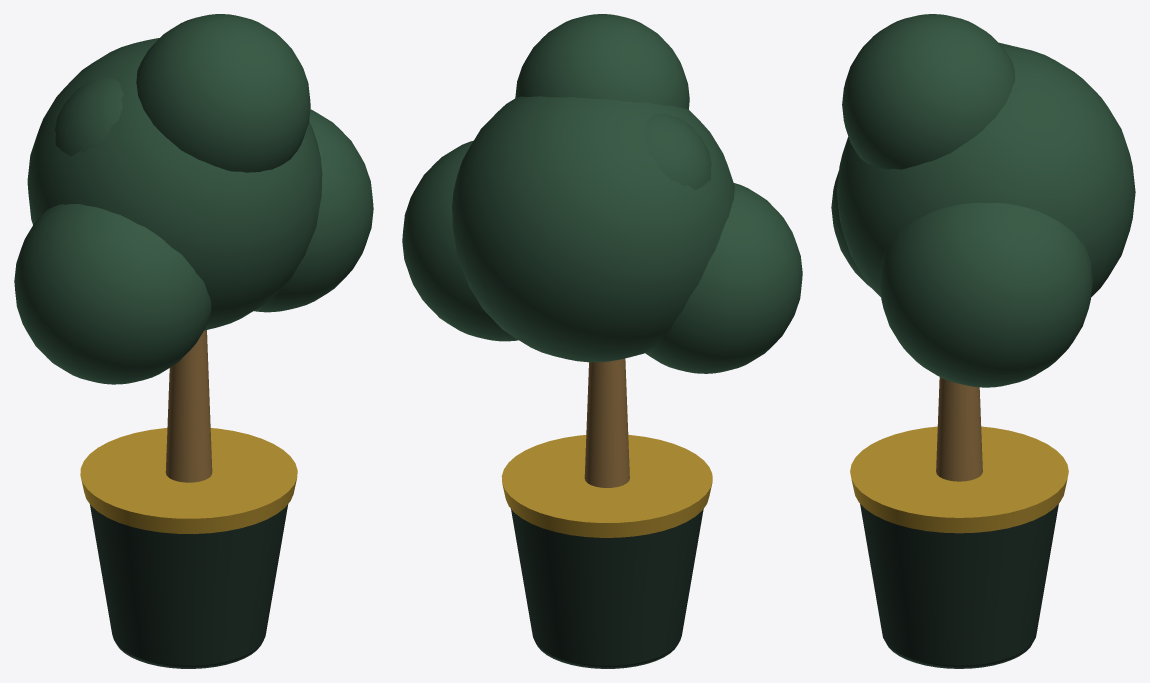
The model's file is potted-plant.glb.
The picture shows the model from 3 angles, left to right: view 1: azimuth 30°, elevation 25°; view 2: azimuth 150°, elevation 25°; view 3: azimuth 270°, elevation 25°; orthographic projection. The views are drawn at different scales.
Visible parts, largest first — view 1: foliage_1, foliage_2, pot, foliage_4, pot_rim, foliage_3, trunk, foliage_5; view 2: foliage_1, pot, foliage_2, pot_rim, foliage_4, foliage_3, trunk, foliage_5; view 3: foliage_1, foliage_3, pot, foliage_4, pot_rim, trunk, foliage_2.
Boxes of the visible parts, left/top/right/bottom form: foliage_1: left=27, top=38, right=322, bottom=330; foliage_2: left=14, top=204, right=211, bottom=384; pot: left=90, top=504, right=288, bottom=668; foliage_4: left=136, top=14, right=310, bottom=172; pot_rim: left=80, top=428, right=297, bottom=533; foliage_3: left=254, top=109, right=373, bottom=312; trunk: left=165, top=330, right=212, bottom=482; foliage_5: left=55, top=77, right=123, bottom=156; foliage_1: left=452, top=96, right=734, bottom=362; pot: left=511, top=509, right=703, bottom=668; foliage_2: left=645, top=183, right=802, bottom=373; pot_rim: left=501, top=434, right=712, bottom=537; foliage_4: left=515, top=14, right=689, bottom=109; foliage_3: left=402, top=140, right=518, bottom=341; trunk: left=584, top=358, right=629, bottom=487; foliage_5: left=644, top=113, right=711, bottom=189; foliage_1: left=836, top=44, right=1135, bottom=297; foliage_3: left=879, top=203, right=1092, bottom=387; pot: left=860, top=504, right=1058, bottom=668; foliage_4: left=842, top=14, right=1015, bottom=169; pot_rim: left=850, top=426, right=1068, bottom=533; trunk: left=936, top=377, right=982, bottom=481; foliage_2: left=831, top=171, right=870, bottom=287.
Bounding box in the file's own units: 0.78 × 1.29 × 0.57.
